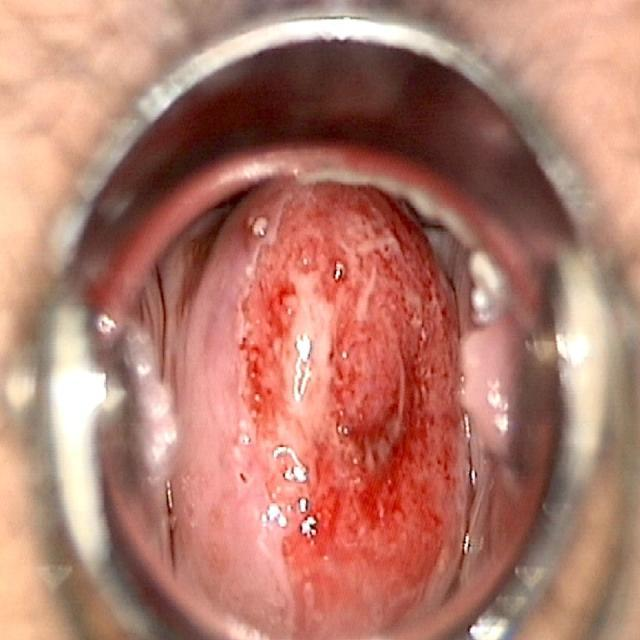cervical_lesion: (237, 190, 472, 617)
